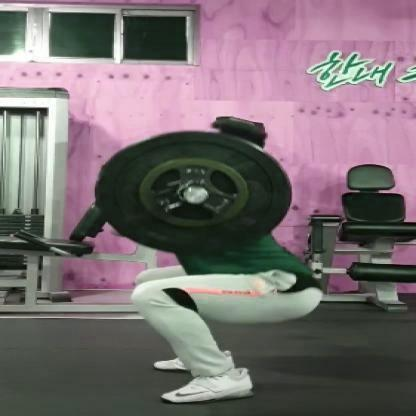Barbell: (182, 189, 212, 206)
